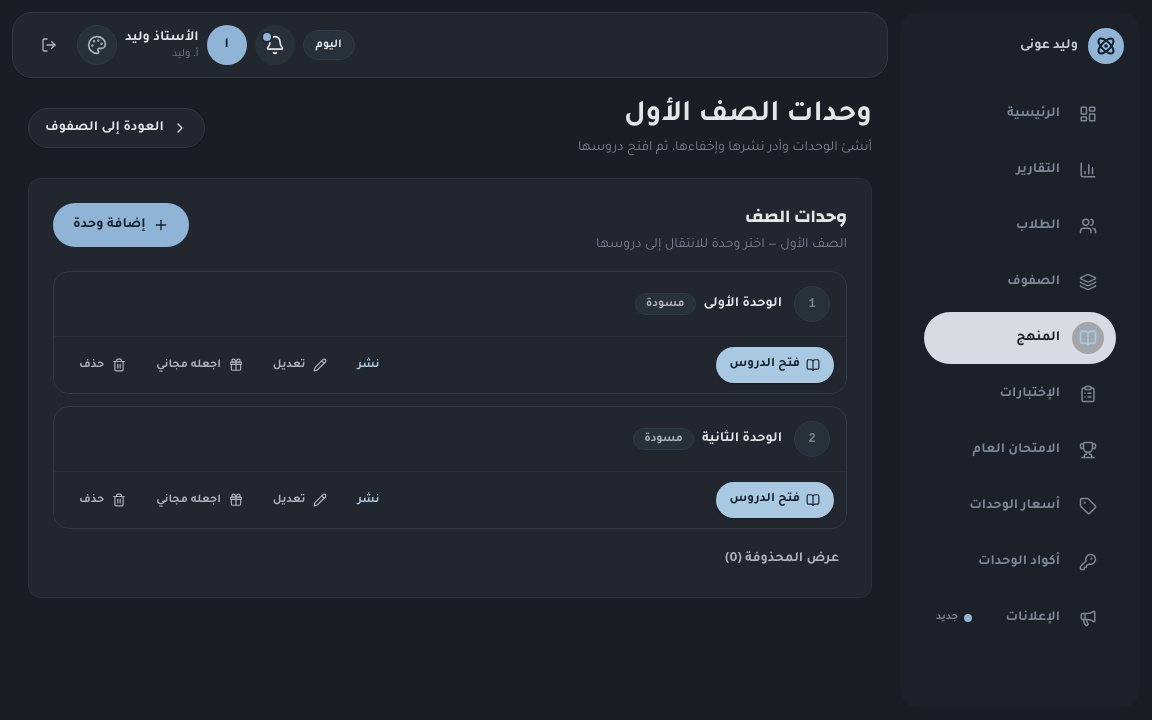
Scenario: CurriculumPage › creates a unit and adds it to the list
Click the button "إضافة وحدة": coordinates (121, 225) x1=53 y1=203 x2=190 y2=247
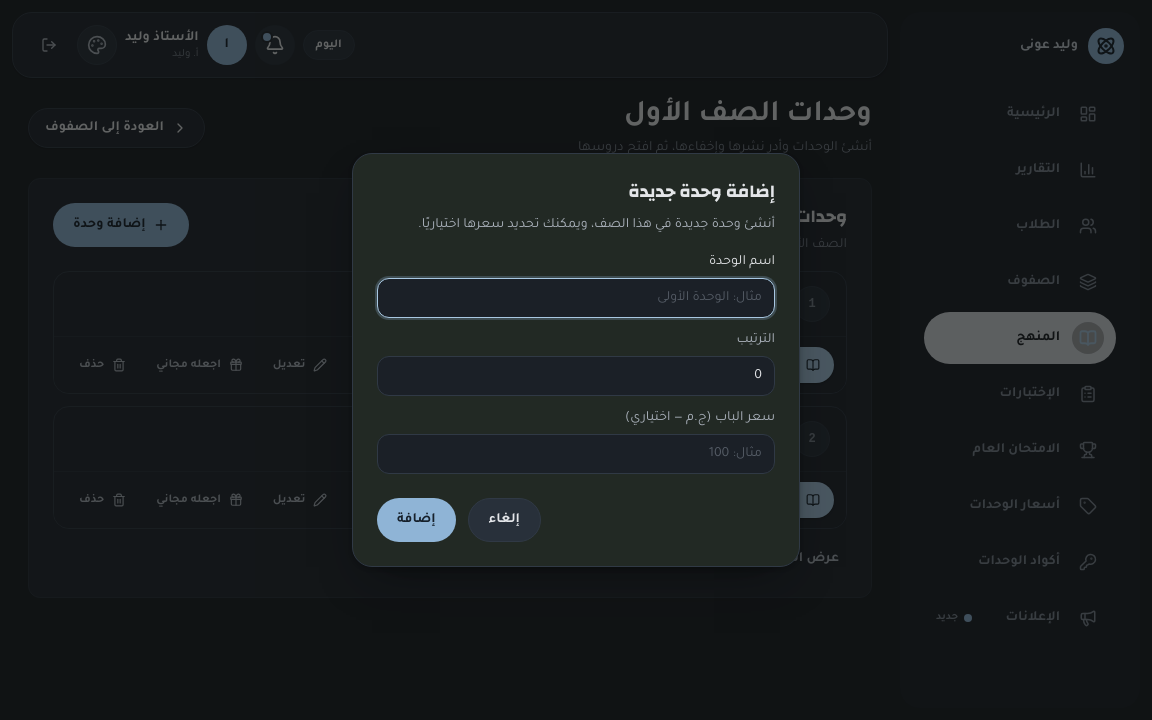
In the field labelled "اسم الوحدة": coordinates (576, 298) x1=377 y1=278 x2=775 y2=318, type "الوحدة الثالثة"
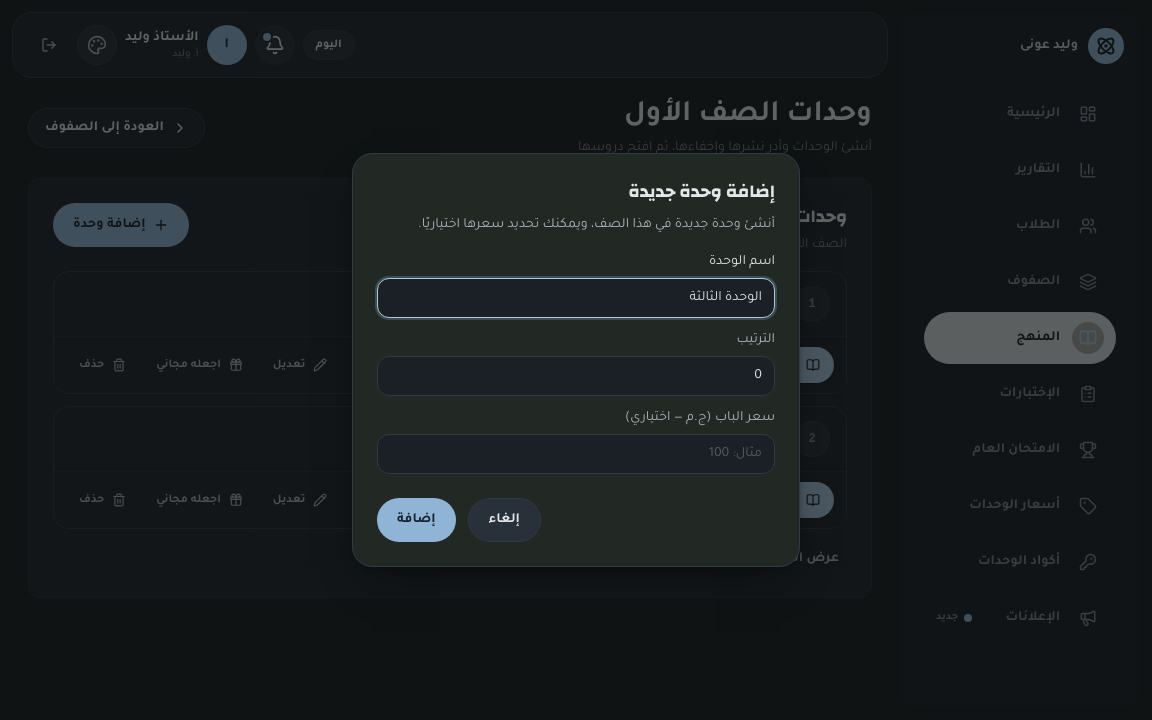
Replace the text in the number field labelled "الترتيب" with "3": coordinates (576, 376) x1=377 y1=356 x2=775 y2=396
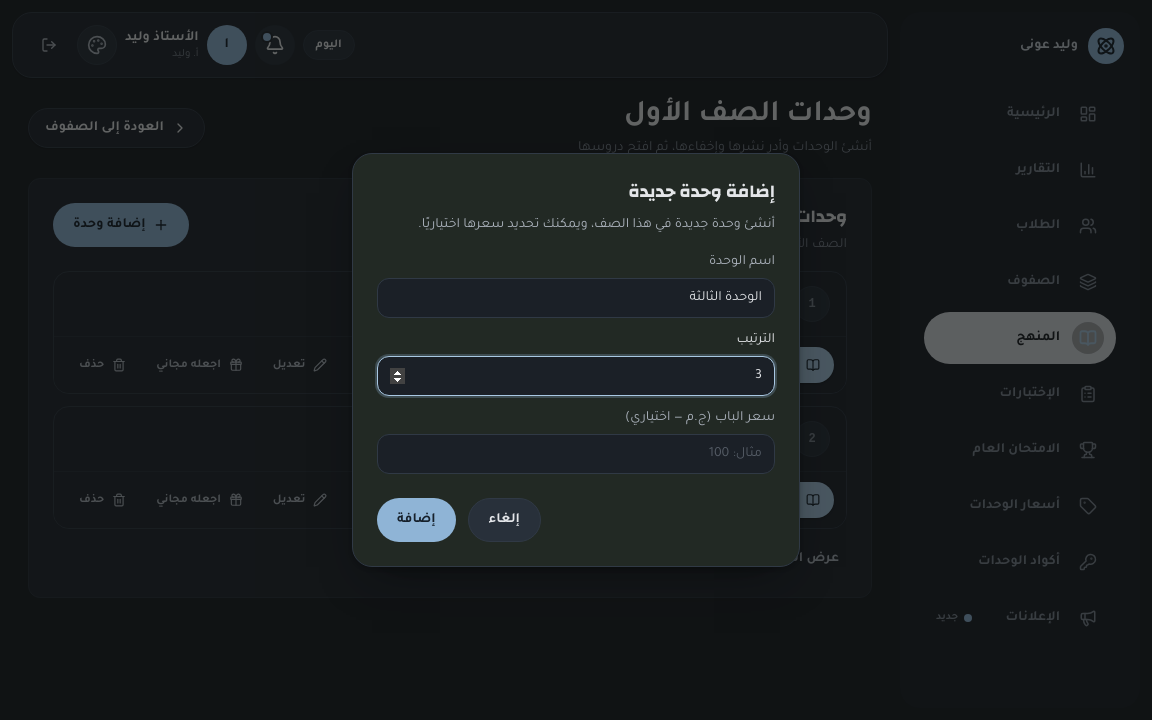
Click the button "إضافة": coordinates (416, 520) x1=377 y1=498 x2=456 y2=542
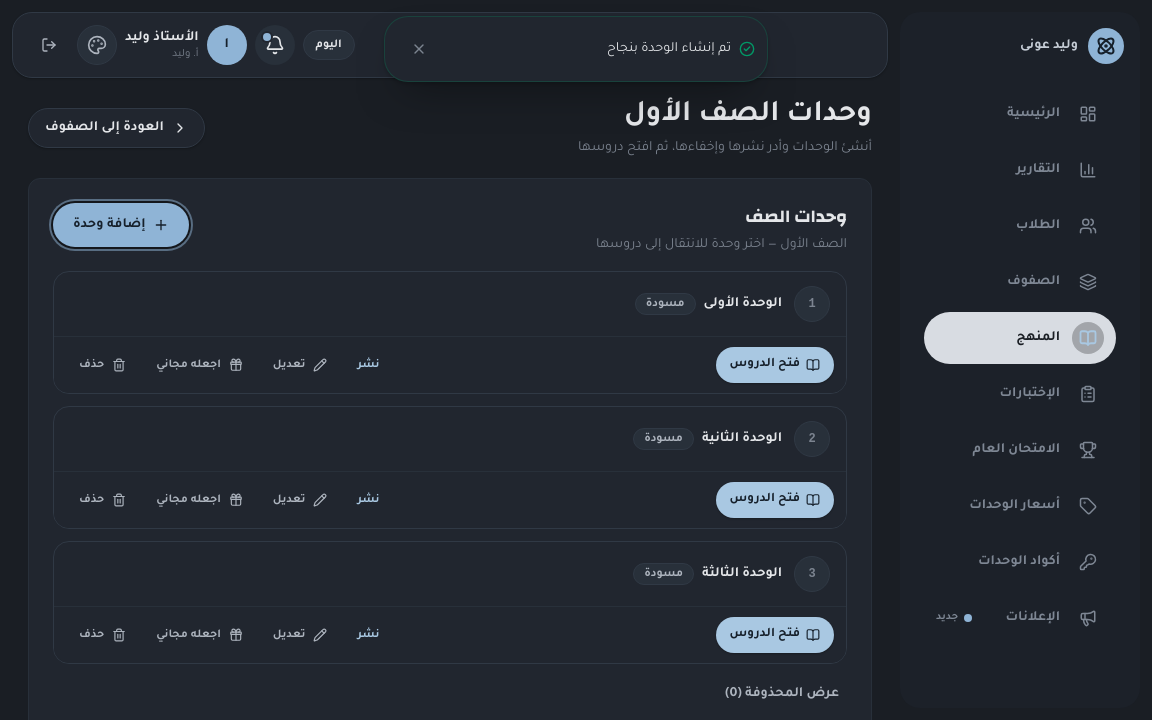
Expected: the text "تم إنشاء الوحدة بنجاح" is shown, x1=607 y1=42 x2=731 y2=56
Expected: the text "الوحدة الثالثة" is shown, x1=702 y1=564 x2=782 y2=584
